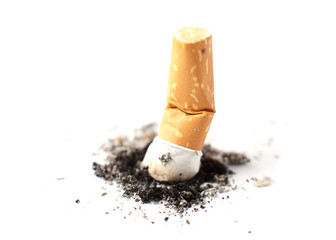cigarette: (136, 22, 220, 185)
